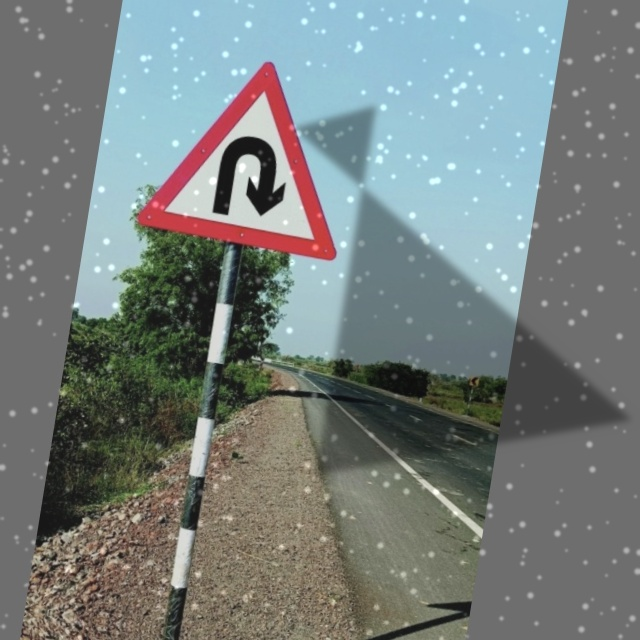Right_Hair_Pin_Bend: (150, 46, 362, 260)
